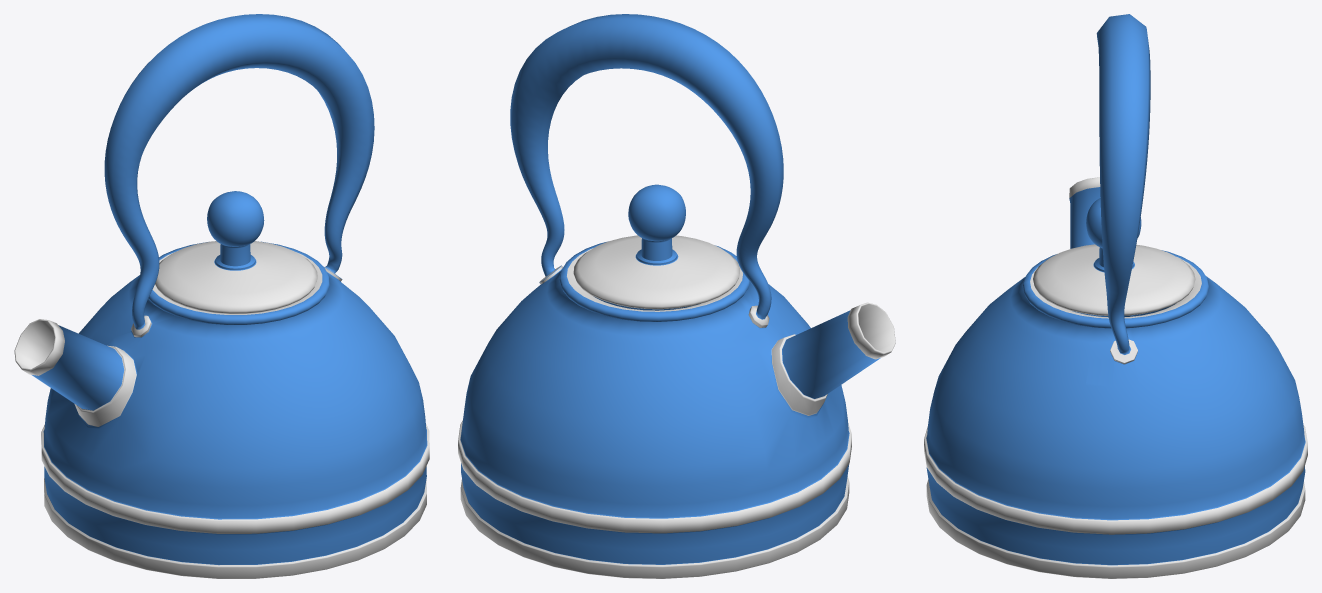
Rendered from tetera.glb.
3 views of the same model, side by side, from view 1: azimuth 30°, elevation 25°; view 2: azimuth 150°, elevation 25°; view 3: azimuth 270°, elevation 25° (orthographic). The views are drawn at different scales.
Parts seen in each view (by area): view 1: Cylinder, Cube; view 2: Cylinder, Cube; view 3: Cylinder, Cube.
Part boxes in pixels (x1,y1,x2,y2): Cylinder: [14, 14, 429, 578]; Cube: [155, 191, 317, 313]; Cylinder: [458, 14, 895, 578]; Cube: [573, 184, 740, 309]; Cylinder: [924, 14, 1307, 578]; Cube: [1033, 198, 1195, 315].
Size of the model in its own units: 6.79 by 7.86 by 5.83.
